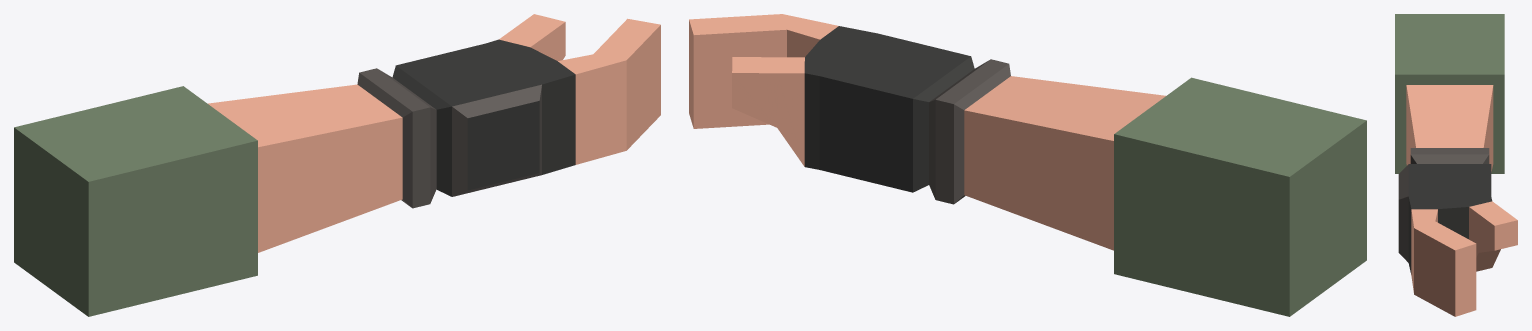
File: Arm_R.fbx
The picture shows the model from 3 angles, left to right: view 1: azimuth 30°, elevation 25°; view 2: azimuth 150°, elevation 25°; view 3: azimuth 270°, elevation 25°; orthographic projection. The views are drawn at different scales.
Parts seen in each view (by area): view 1: Cube; view 2: Cube; view 3: Cube.
Part boxes in pixels (x1=…): Cube: x1=14, y1=14, x2=660, y2=316; Cube: x1=689, y1=14, x2=1366, y2=316; Cube: x1=1395, y1=14, x2=1517, y2=316.
Bounding box in the file's own units: 292 × 61.41 × 68.8.
